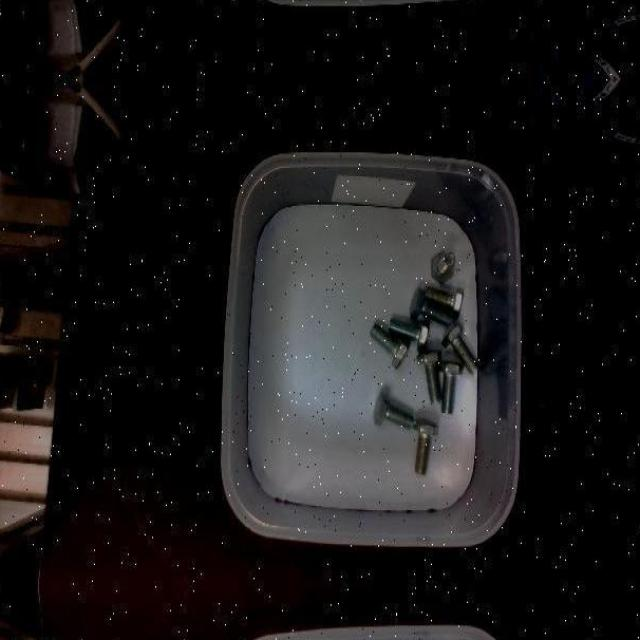screw: (441, 321, 478, 374), (370, 322, 410, 369), (410, 286, 450, 326), (373, 390, 413, 428), (437, 358, 463, 415), (416, 348, 442, 402), (414, 418, 438, 476), (388, 318, 428, 352), (424, 288, 464, 320), (431, 250, 454, 282)
